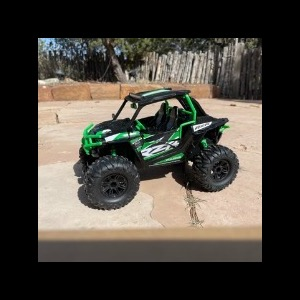polaris: (78, 87, 240, 213)
